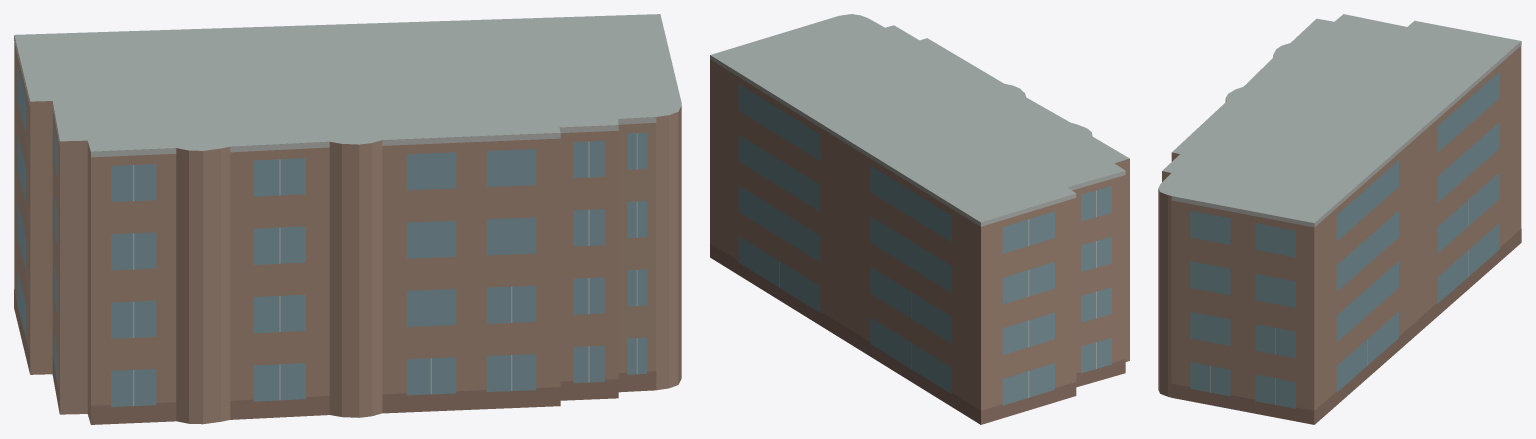
The model's file is survey-upis-33011681.glb.
3 renders of one model, left to right at view 1: azimuth 30°, elevation 25°; view 2: azimuth 150°, elevation 25°; view 3: azimuth 270°, elevation 25°, orthographic. The views are drawn at different scales.
Parts seen in each view (by area): view 1: survey-upis-33011681.tmp; view 2: survey-upis-33011681.tmp; view 3: survey-upis-33011681.tmp.
Part boxes in pixels (box(x1,y1,x2,y2)): survey-upis-33011681.tmp: box(14, 14, 681, 424); survey-upis-33011681.tmp: box(710, 14, 1129, 424); survey-upis-33011681.tmp: box(1158, 14, 1521, 424).
Size of the model in its own units: 25.59 by 11.5 by 18.77.
